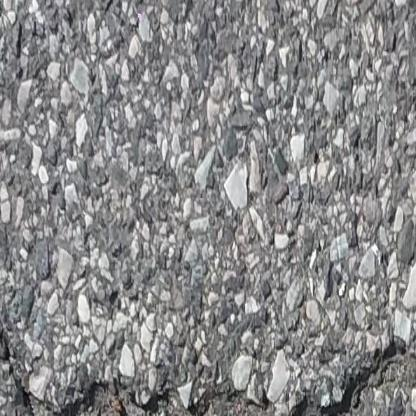Cracks: (0, 313, 416, 416)
